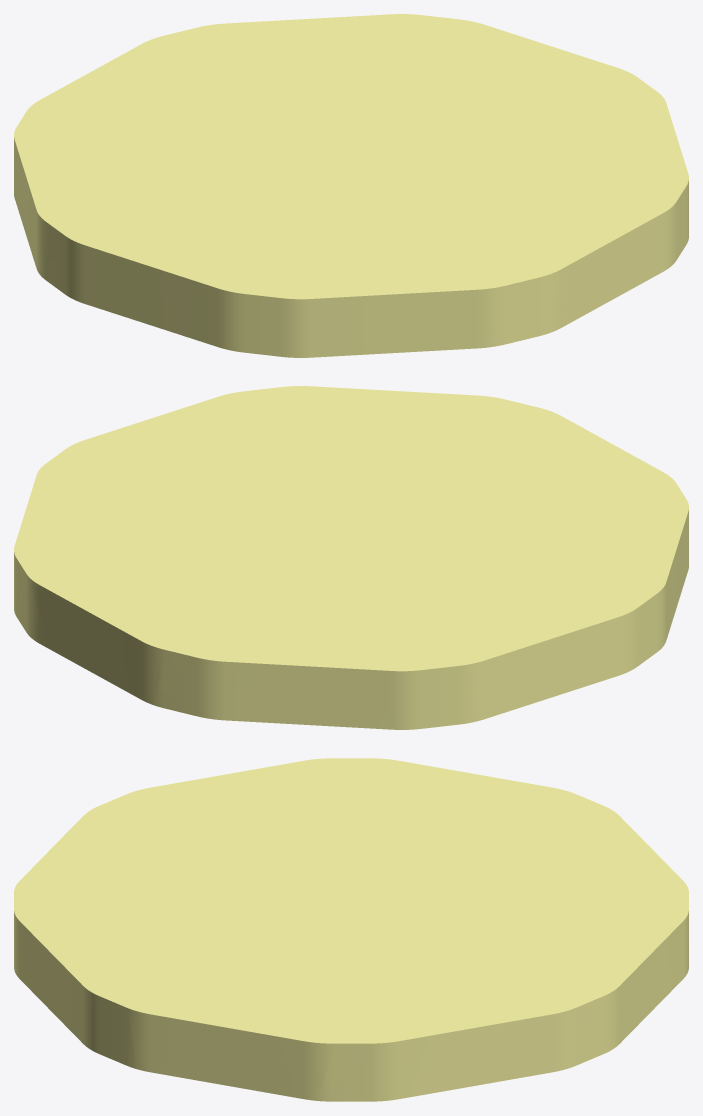
The model's file is Arena1Section6.FBX.
The picture shows the model from 3 angles, top to bottom: view 1: azimuth 30°, elevation 25°; view 2: azimuth 150°, elevation 25°; view 3: azimuth 270°, elevation 25°; orthographic projection.
Visible parts, largest first — view 1: AERNA030, AERNA025_Part_7, AERNA025_Part_6, AERNA025_Part_20, AERNA025_Part_25, AERNA025_Part_13, AERNA027_Part_13, AERNA027_Part_18, AERNA028_Part_7, AERNA027_Part_15, AERNA029_Part_1, AERNA025_Part_15 (+71 smaller); view 2: AERNA030, AERNA025_Part_15, AERNA025_Part_5, AERNA025_Part_16, AERNA025_Part_6, AERNA025_Part_18, AERNA025_Part_24, AERNA025_Part_11, AERNA025_Part_10, AERNA027_Part_13, AERNA025_Part_7, AERNA027_Part_18 (+73 smaller); view 3: AERNA030, AERNA025_Part_12, AERNA025_Part_29, AERNA025_Part_4, AERNA025_Part_13, AERNA025_Part_8, AERNA025_Part_3, AERNA025_Part_1, AERNA027_Part_13, AERNA027_Part_18, AERNA028_Part_7, AERNA025_Part_7 (+74 smaller).
Part boxes in pixels (left/top/right/bottom): AERNA030: left=218, top=100, right=484, bottom=212; AERNA025_Part_7: left=195, top=268, right=420, bottom=357; AERNA025_Part_6: left=44, top=219, right=207, bottom=341; AERNA025_Part_20: left=412, top=270, right=504, bottom=348; AERNA025_Part_25: left=560, top=218, right=640, bottom=313; AERNA025_Part_13: left=614, top=182, right=688, bottom=283; AERNA027_Part_13: left=536, top=120, right=610, bottom=213; AERNA027_Part_18: left=381, top=204, right=571, bottom=264; AERNA028_Part_7: left=448, top=117, right=526, bottom=198; AERNA027_Part_15: left=124, top=199, right=276, bottom=259; AERNA029_Part_1: left=507, top=114, right=568, bottom=194; AERNA025_Part_15: left=14, top=131, right=62, bottom=245; AERNA030: left=218, top=472, right=484, bottom=584; AERNA025_Part_15: left=451, top=615, right=587, bottom=720; AERNA025_Part_5: left=342, top=648, right=479, bottom=729; AERNA025_Part_16: left=154, top=635, right=266, bottom=721; AERNA025_Part_6: left=611, top=523, right=685, bottom=667; AERNA025_Part_18: left=293, top=653, right=393, bottom=726; AERNA025_Part_24: left=572, top=593, right=642, bottom=689; AERNA025_Part_11: left=239, top=651, right=312, bottom=725; AERNA025_Part_10: left=107, top=616, right=187, bottom=705; AERNA027_Part_13: left=156, top=419, right=357, bottom=466; AERNA025_Part_7: left=573, top=438, right=688, bottom=578; AERNA027_Part_18: left=357, top=419, right=558, bottom=463; AERNA030: left=220, top=845, right=482, bottom=956; AERNA025_Part_12: left=317, top=1023, right=431, bottom=1101; AERNA025_Part_29: left=486, top=989, right=591, bottom=1079; AERNA025_Part_4: left=411, top=1013, right=511, bottom=1096; AERNA025_Part_13: left=69, top=965, right=154, bottom=1068; AERNA025_Part_8: left=128, top=995, right=223, bottom=1074; AERNA025_Part_3: left=263, top=1020, right=356, bottom=1100; AERNA025_Part_1: left=206, top=1014, right=285, bottom=1095; AERNA027_Part_13: left=128, top=944, right=305, bottom=1006; AERNA027_Part_18: left=95, top=858, right=162, bottom=952; AERNA028_Part_7: left=195, top=923, right=381, bottom=973; AERNA025_Part_7: left=45, top=783, right=196, bottom=863.
Bounding box in the file's own units: 211 × 211 × 20.
